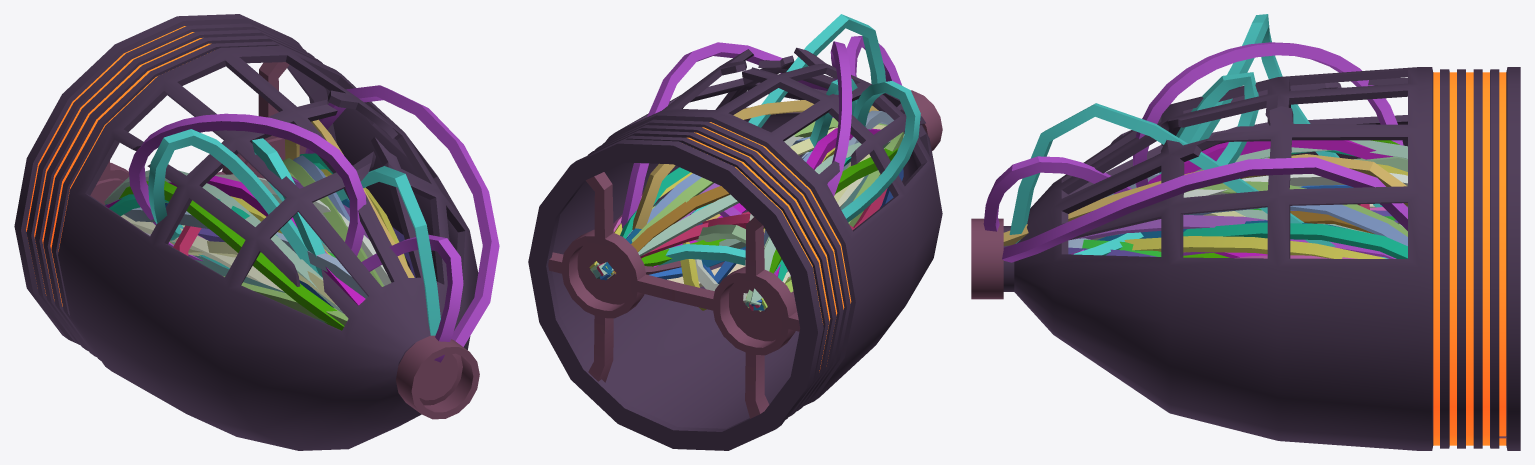
The picture shows the model from 3 angles, left to right: view 1: azimuth 30°, elevation 25°; view 2: azimuth 150°, elevation 25°; view 3: azimuth 270°, elevation 25°; orthographic projection. The views are drawn at different scales.
Visible parts, largest first — view 1: Cylinder; view 2: Cylinder; view 3: Cylinder.
Part boxes in pixels (<box>): Cylinder: <box>14,14,499,450</box>; Cylinder: <box>528,14,942,450</box>; Cylinder: <box>971,14,1520,450</box>.
Bounding box in the file's own units: 76.1 × 78.69 × 109.
